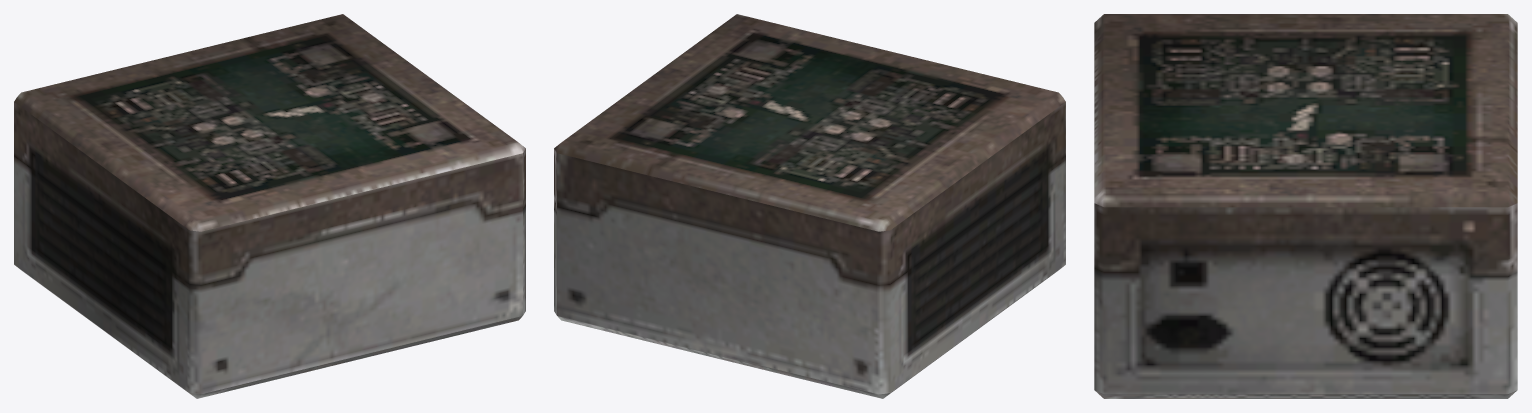
Rendered from junk_computer_part_02.dae.
The picture shows the model from 3 angles, left to right: view 1: azimuth 30°, elevation 25°; view 2: azimuth 150°, elevation 25°; view 3: azimuth 270°, elevation 25°; orthographic projection. The views are drawn at different scales.
Parts seen in each view (by area): view 1: junk_computer_part_02; view 2: junk_computer_part_02; view 3: junk_computer_part_02.
Boxes of the visible parts, x1=… form: junk_computer_part_02: x1=14, y1=14, x2=525, y2=398; junk_computer_part_02: x1=554, y1=14, x2=1065, y2=398; junk_computer_part_02: x1=1094, y1=14, x2=1517, y2=398.
Bounding box in the file's own units: 0.2254 × 0.1214 × 0.2137.
